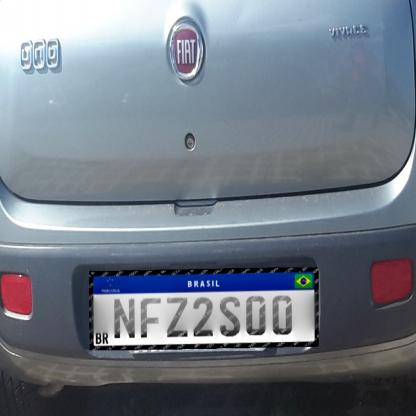PlacaM: (89, 268, 319, 350)
